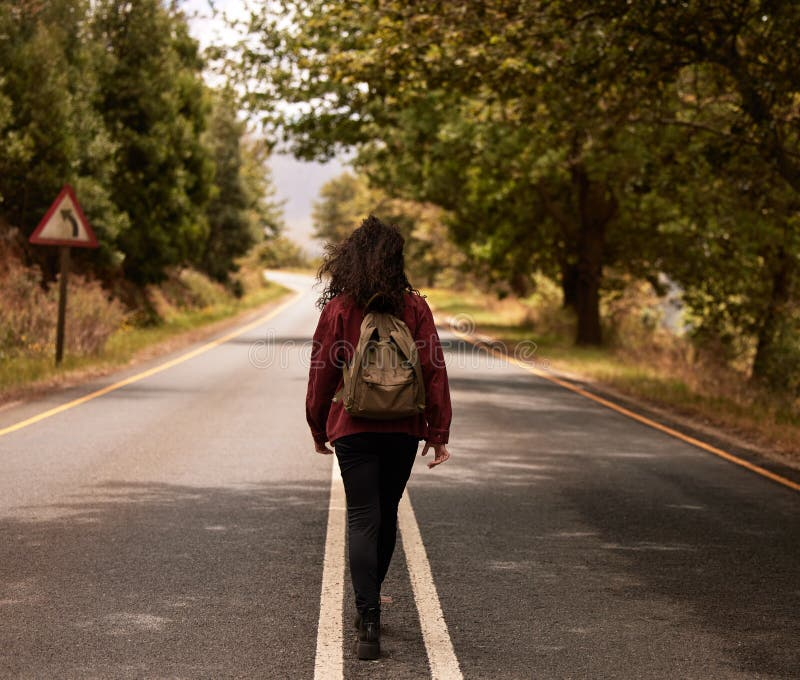Person: (283, 214, 454, 660)
